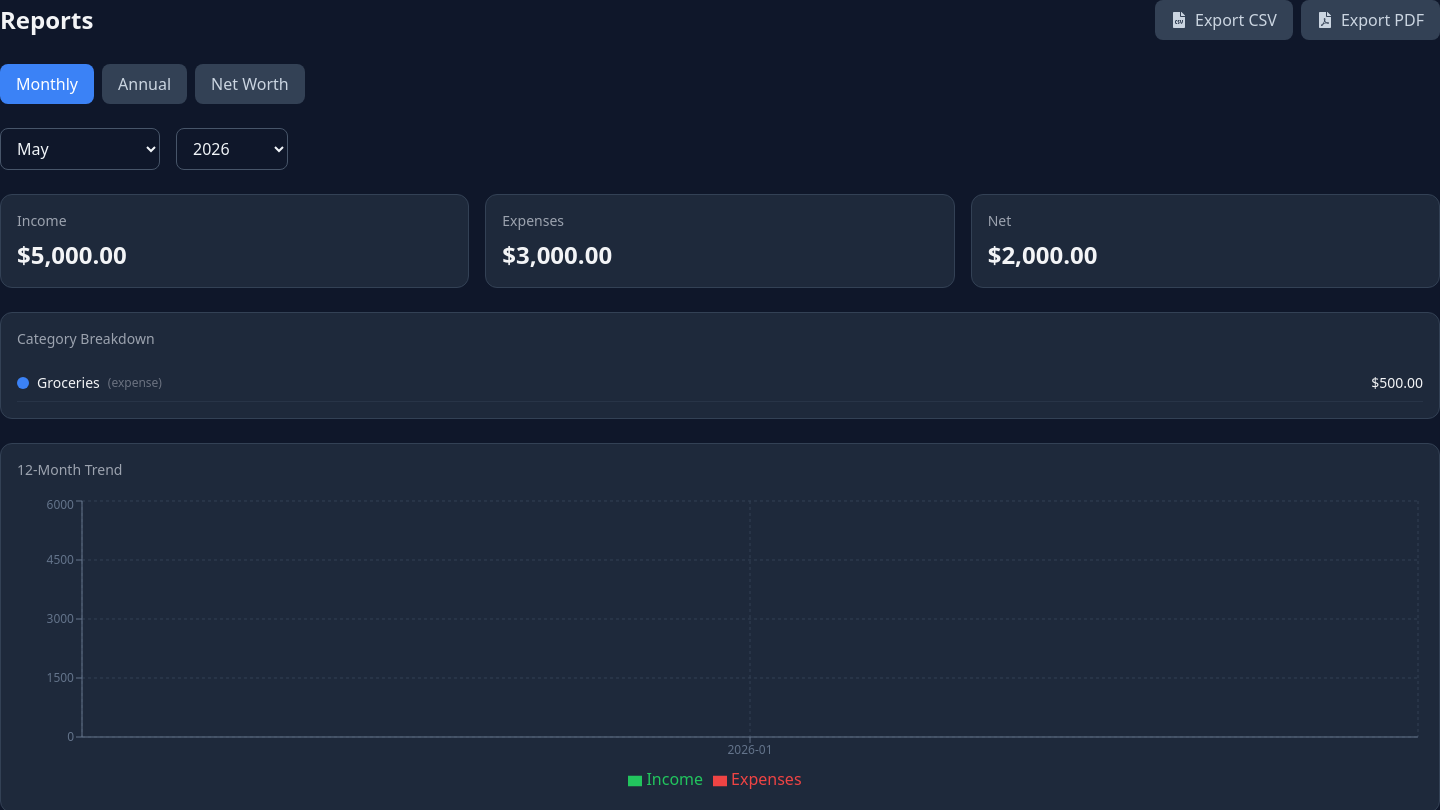
Test: Reports › shows month-by-month breakdown in annual view
The image size is (1440, 810).
Click the button "Annual" at (144, 84), box [102,64,187,104]
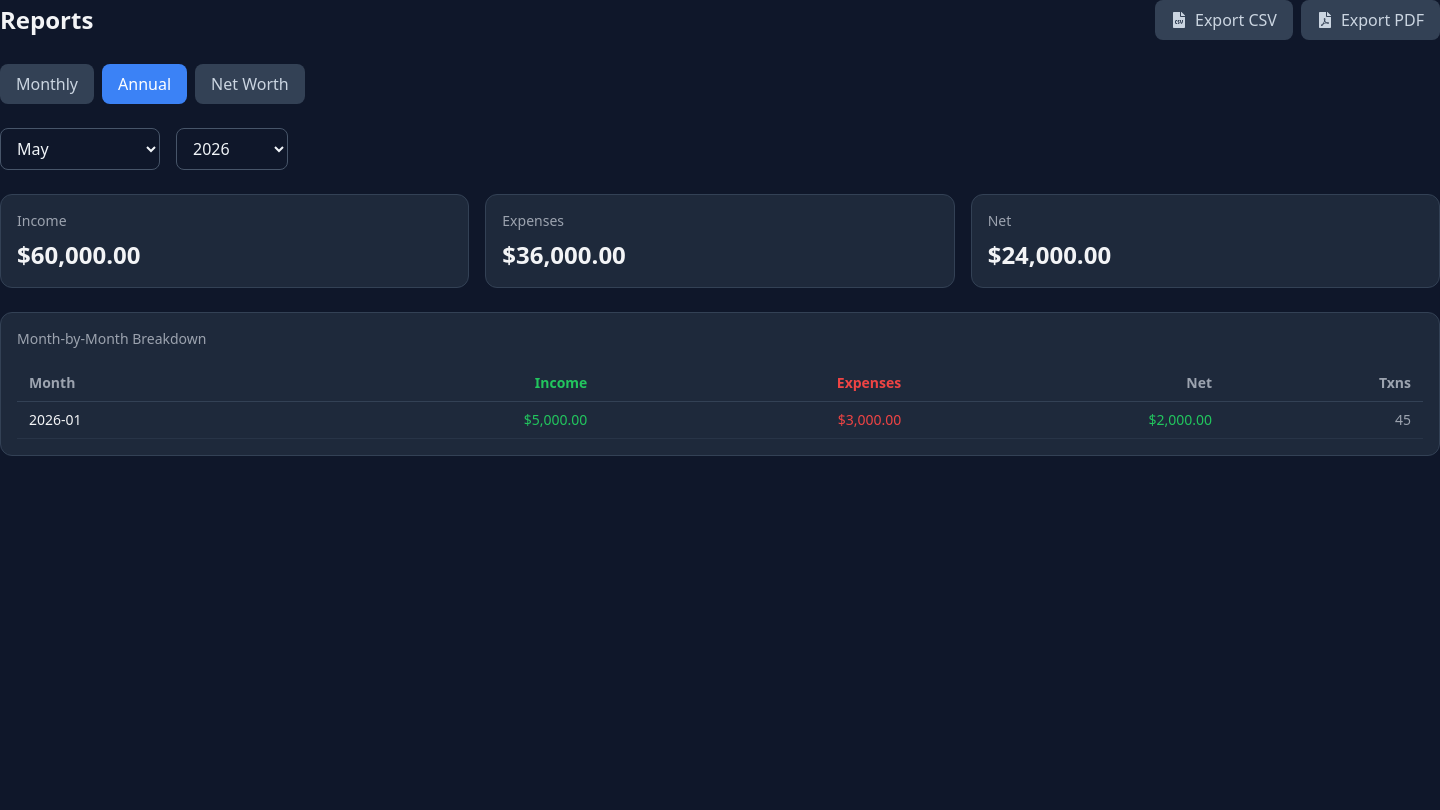
Now the heading "Month-by-Month Breakdown" is shown, box [17,329,206,348]
